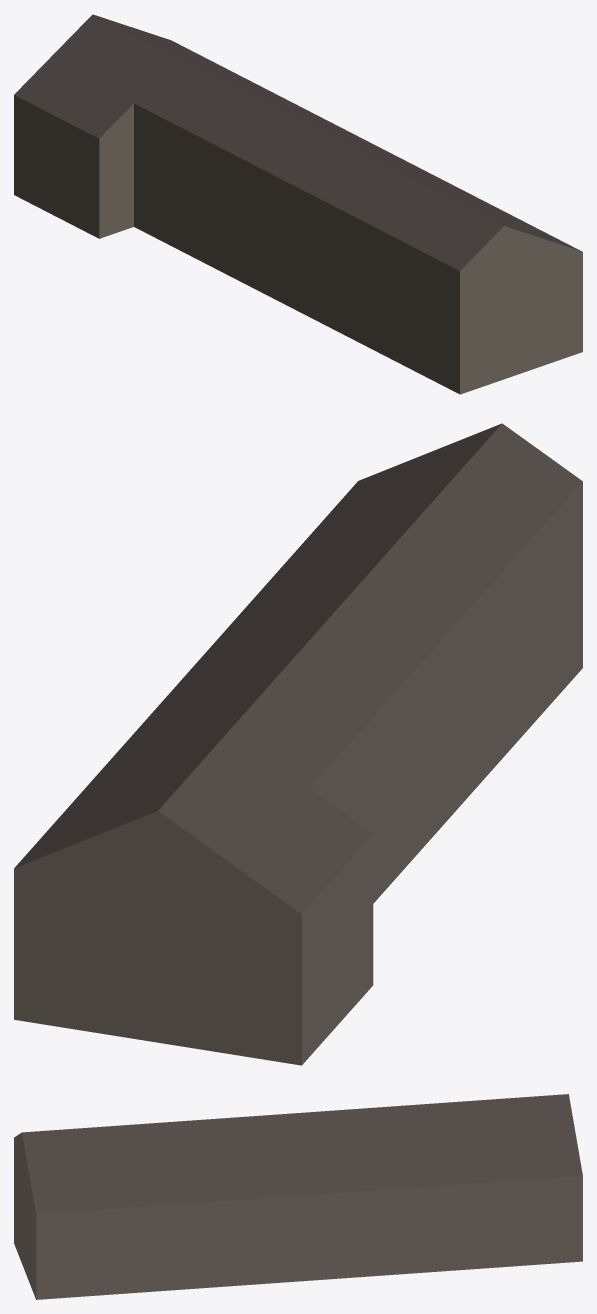
3 renders of one model, top to bottom at view 1: azimuth 30°, elevation 25°; view 2: azimuth 150°, elevation 25°; view 3: azimuth 270°, elevation 25°, orthographic. The views are drawn at different scales.
Parts seen in each view (by area): view 1: HP-w1376988737; view 2: HP-w1376988737; view 3: HP-w1376988737.
Part boxes in pixels (bbox=[...]): HP-w1376988737: bbox=[14, 14, 582, 394]; HP-w1376988737: bbox=[14, 423, 582, 1065]; HP-w1376988737: bbox=[14, 1094, 582, 1299].
Size of the model in its own units: 16.67 by 9.19 by 36.13.
